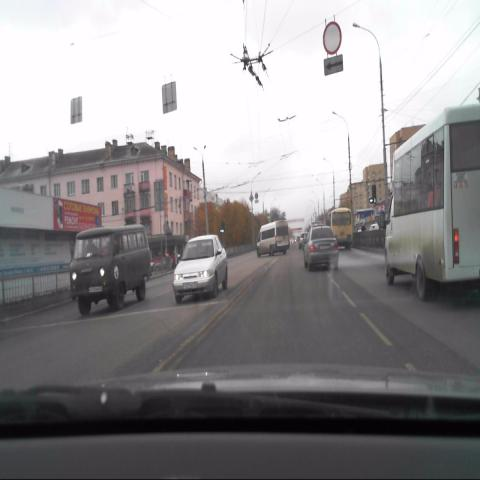3_2: (322, 20, 342, 55)
8_3_2: (323, 56, 343, 75)
